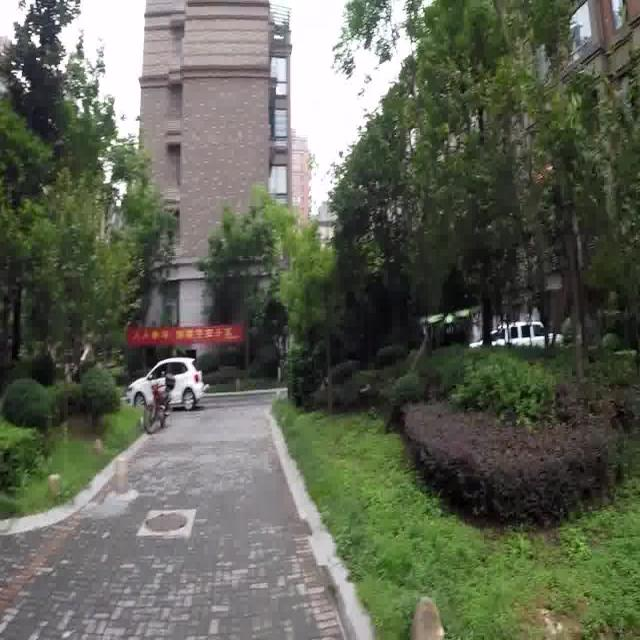drones: (416, 299, 486, 344)
